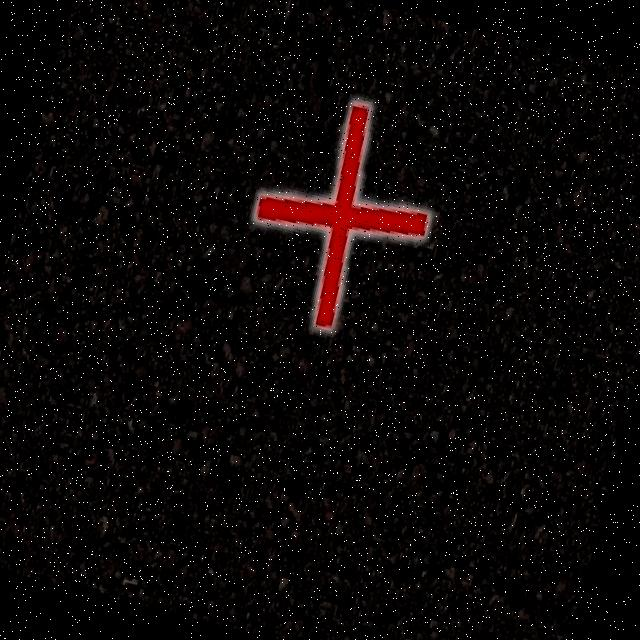x_marker: (233, 85, 450, 343)
